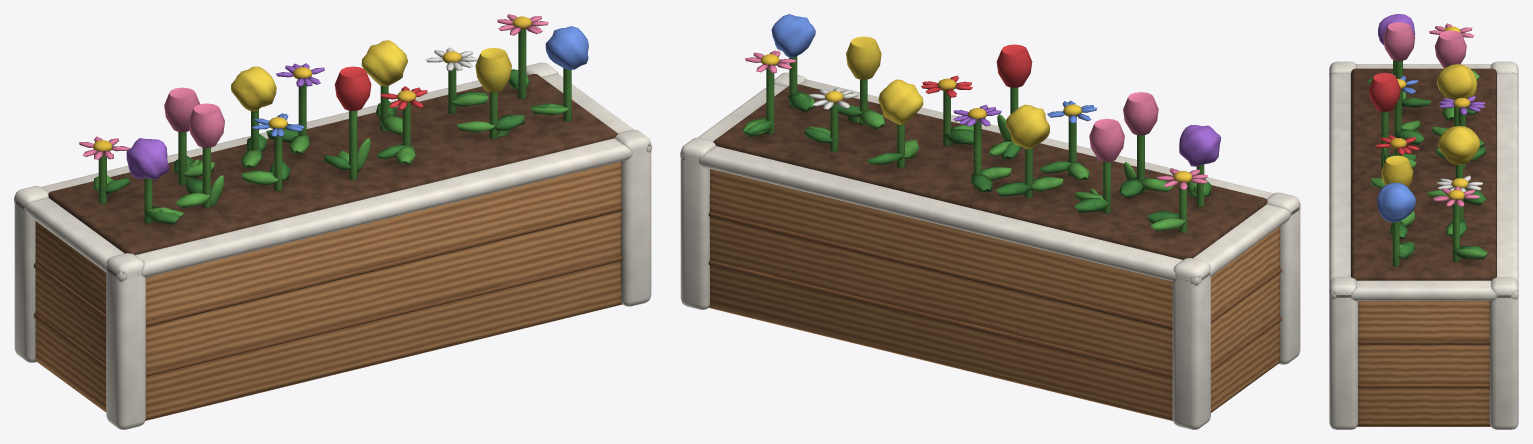
Rendered from FlowerPlanter.fbx.
The picture shows the model from 3 angles, left to right: view 1: azimuth 30°, elevation 25°; view 2: azimuth 150°, elevation 25°; view 3: azimuth 270°, elevation 25°; orthographic projection. The views are drawn at different scales.
Parts seen in each view (by area): view 1: FlowerPlanter; view 2: FlowerPlanter; view 3: FlowerPlanter.
Boxes of the visible parts, left/top/right/bottom form: FlowerPlanter: left=14, top=14, right=651, bottom=429; FlowerPlanter: left=680, top=14, right=1300, bottom=429; FlowerPlanter: left=1329, top=14, right=1518, bottom=429.
Size of the model in its own units: 3.7 by 1.81 by 1.3.
1 material, 1 textured.
